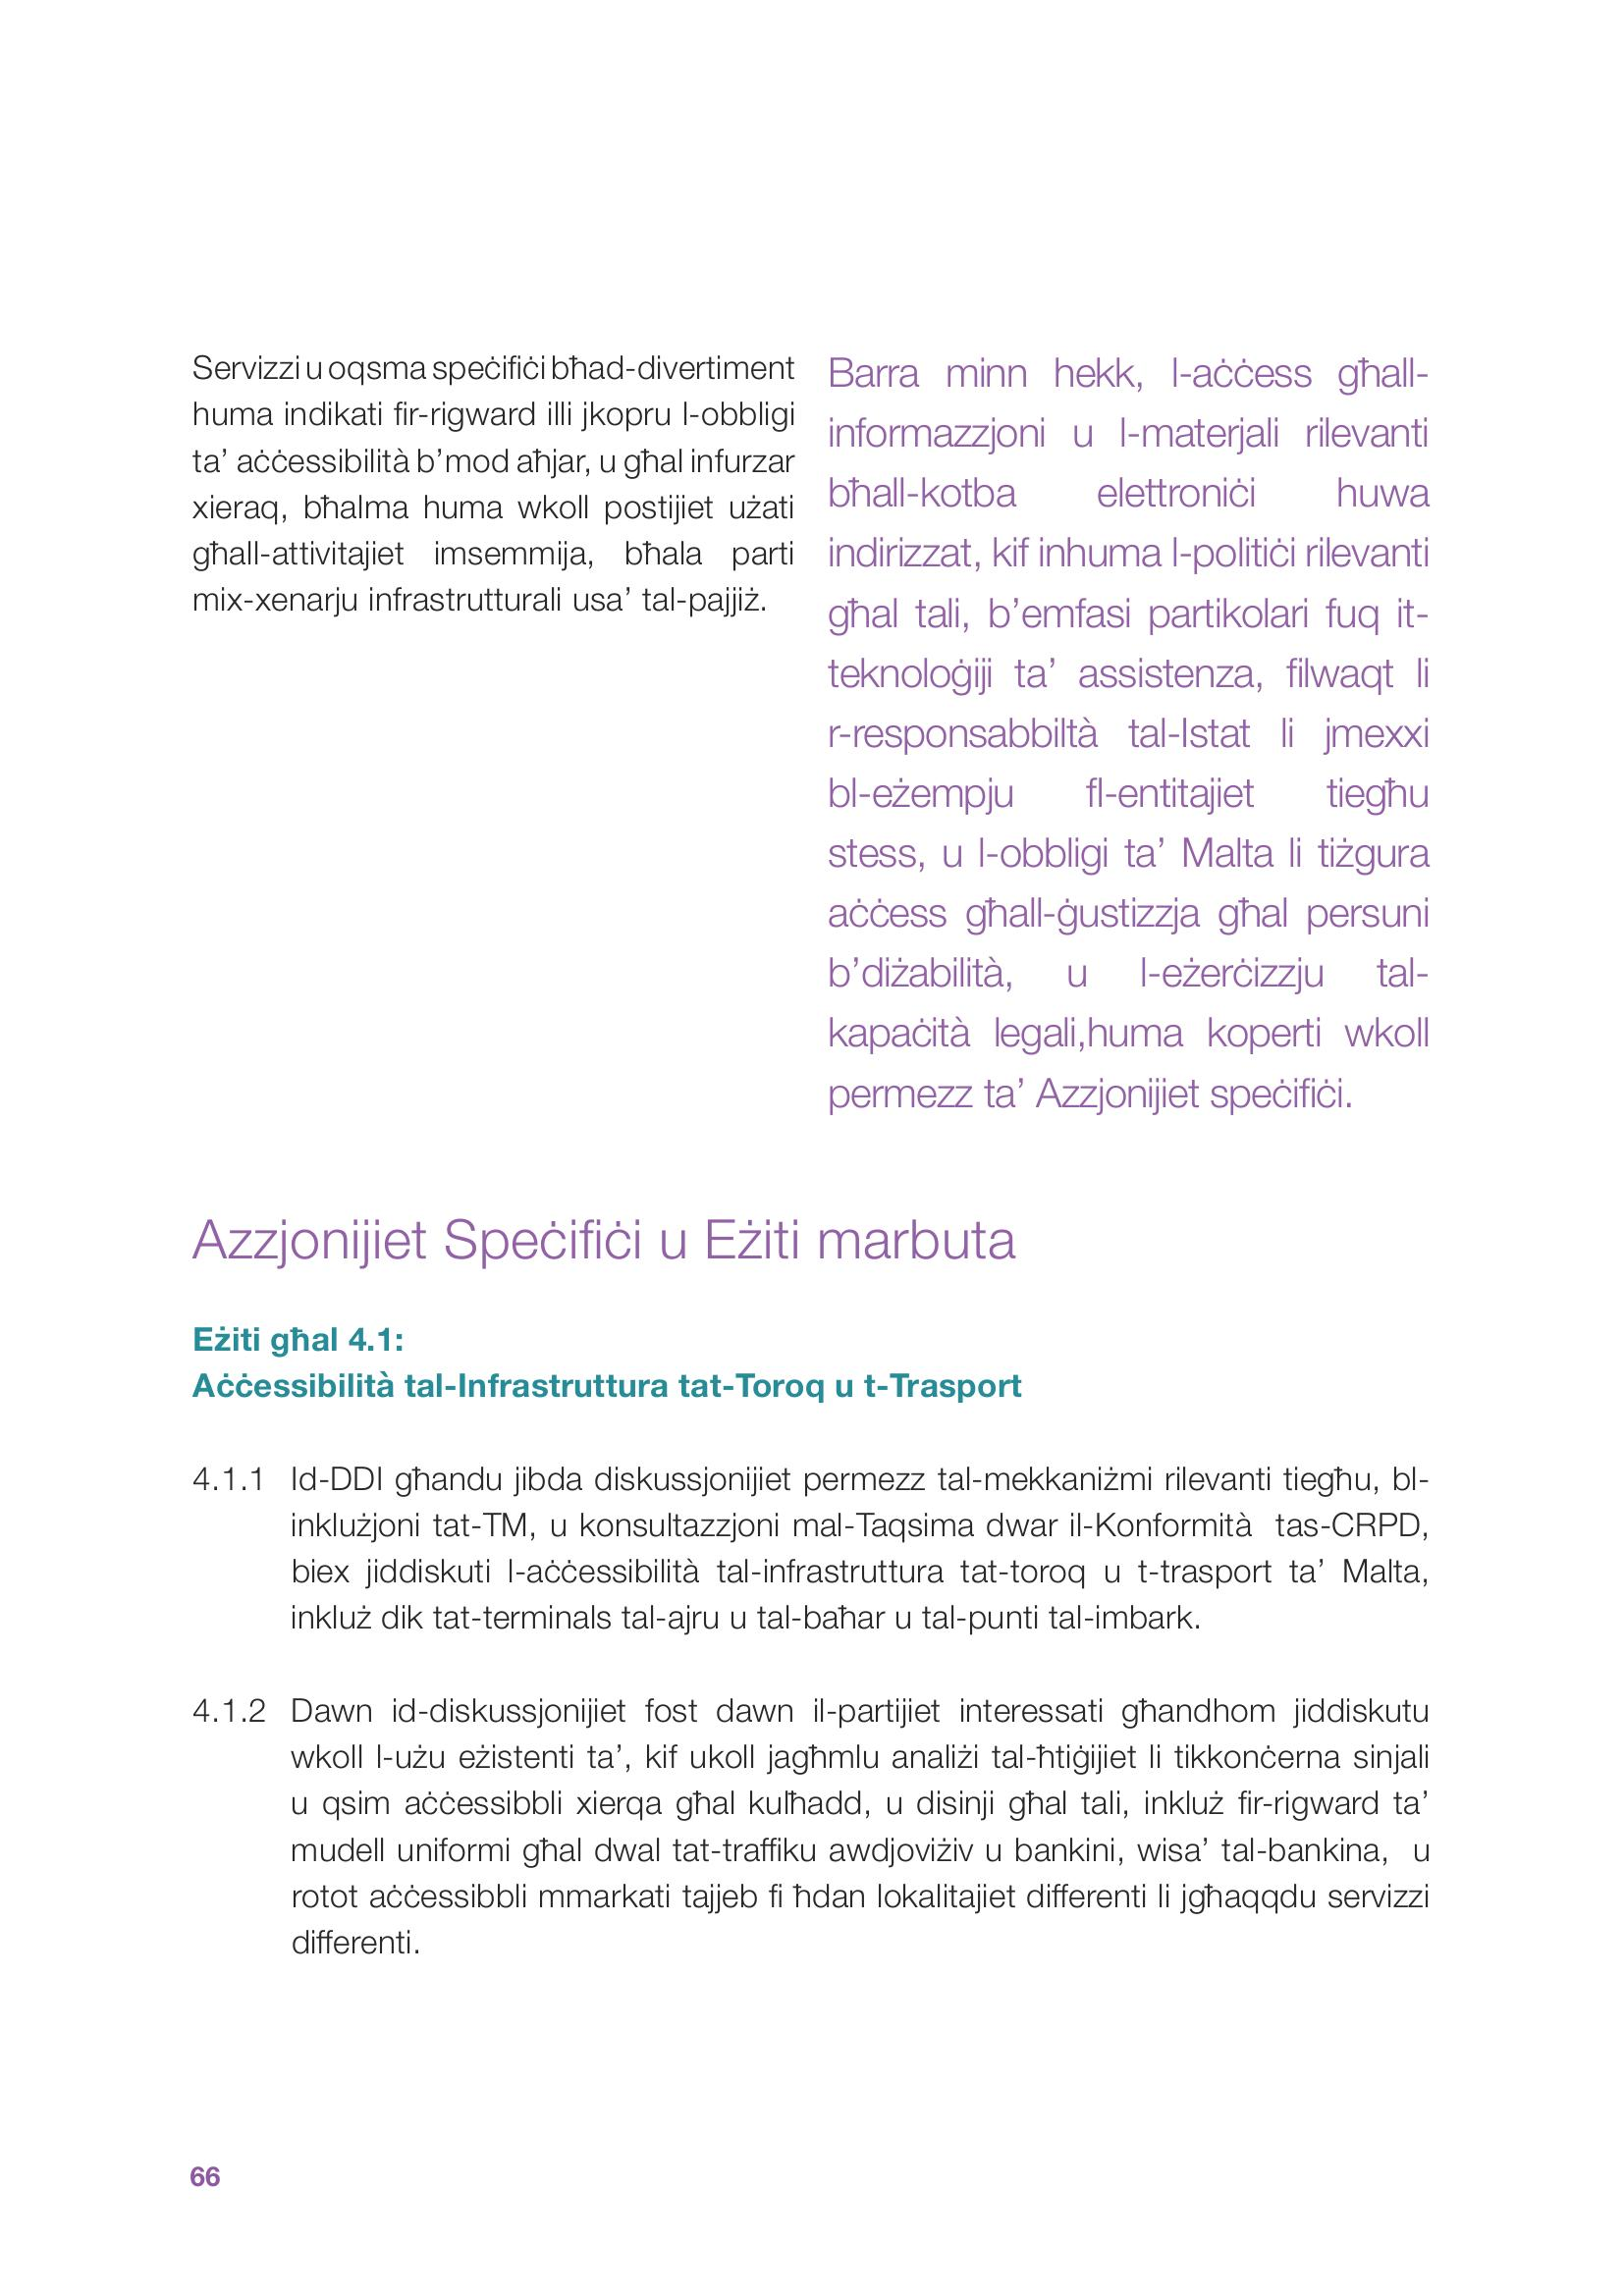text: (165, 1200, 1494, 1992), (814, 336, 1452, 1145), (149, 329, 808, 650)
